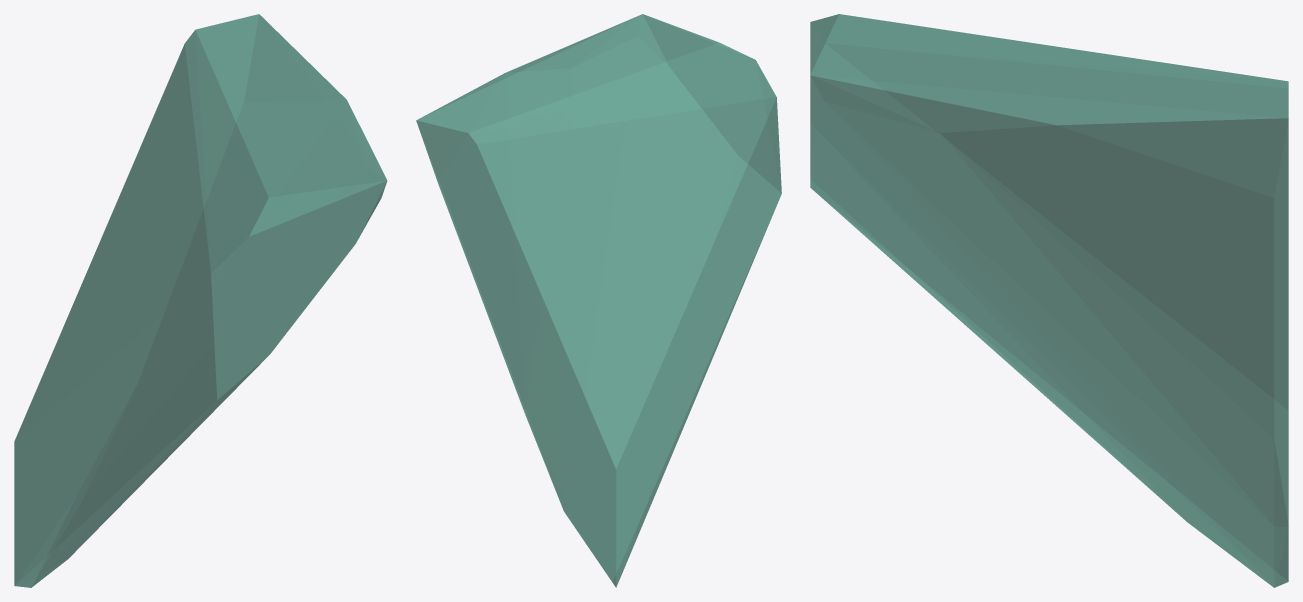
The picture shows the model from 3 angles, left to right: view 1: azimuth 30°, elevation 25°; view 2: azimuth 150°, elevation 25°; view 3: azimuth 270°, elevation 25°; orthographic projection. The views are drawn at different scales.
Visible parts, largest first — view 1: Shape_IndexedFaceSet.042_Shape_IndexedFaceSet.4388; view 2: Shape_IndexedFaceSet.042_Shape_IndexedFaceSet.4388; view 3: Shape_IndexedFaceSet.042_Shape_IndexedFaceSet.4388.
Part boxes in pixels (left/top/right/bottom): Shape_IndexedFaceSet.042_Shape_IndexedFaceSet.4388: left=14, top=14, right=387, bottom=587; Shape_IndexedFaceSet.042_Shape_IndexedFaceSet.4388: left=416, top=14, right=781, bottom=587; Shape_IndexedFaceSet.042_Shape_IndexedFaceSet.4388: left=810, top=14, right=1288, bottom=587.
Bounding box in the file's own units: 0.147 × 0.2939 × 0.2109.
